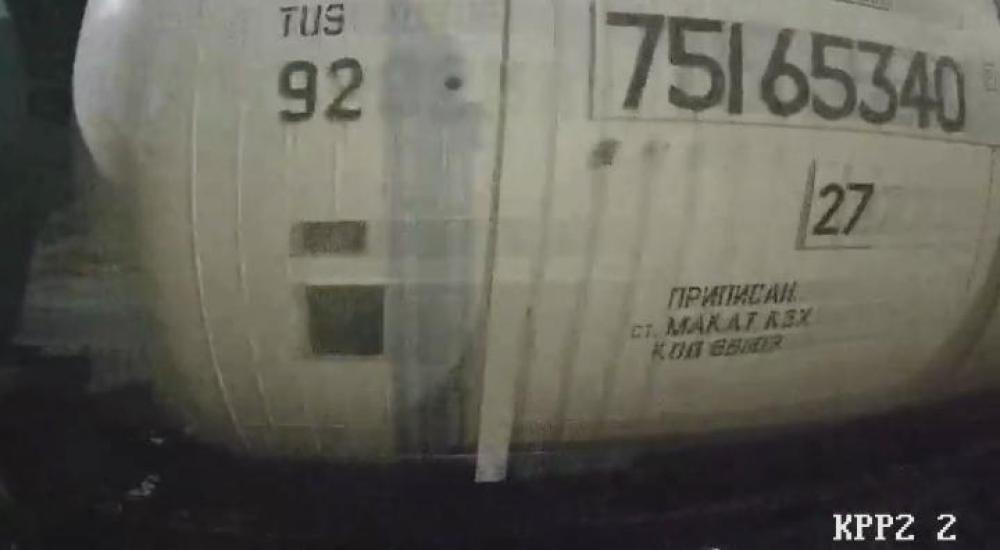Wagon-number: (595, 5, 970, 136)
